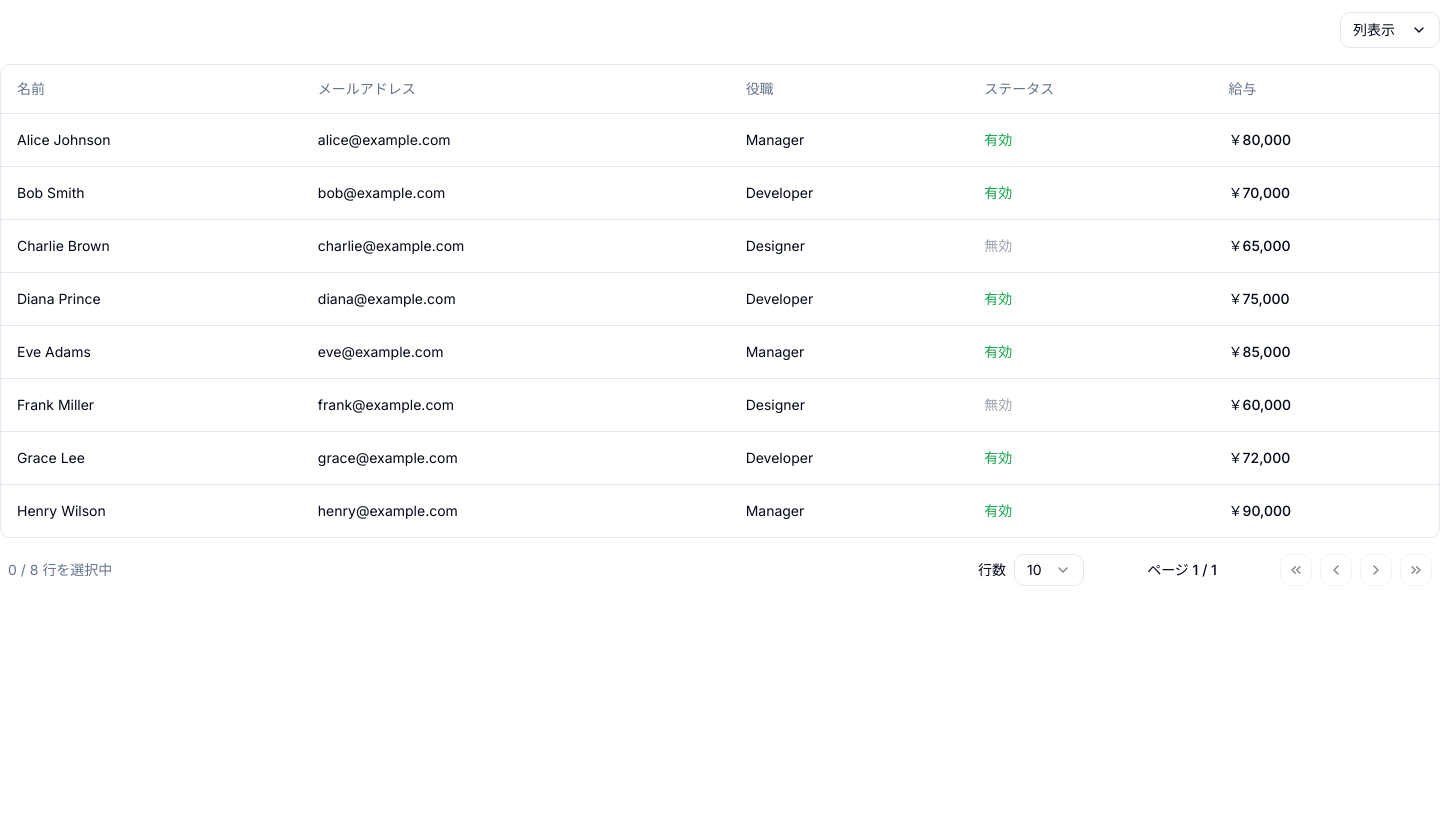
it: DataTable › Column Visibility Toggle › can toggle column visibility
The image size is (1452, 822).
Expected: the column heading "メールアドレス" is shown, [302,65,730,113]
Note: Open visibility dropdown
Click the button "列表示" at coordinates (1390, 30), box [1340,12,1440,48]
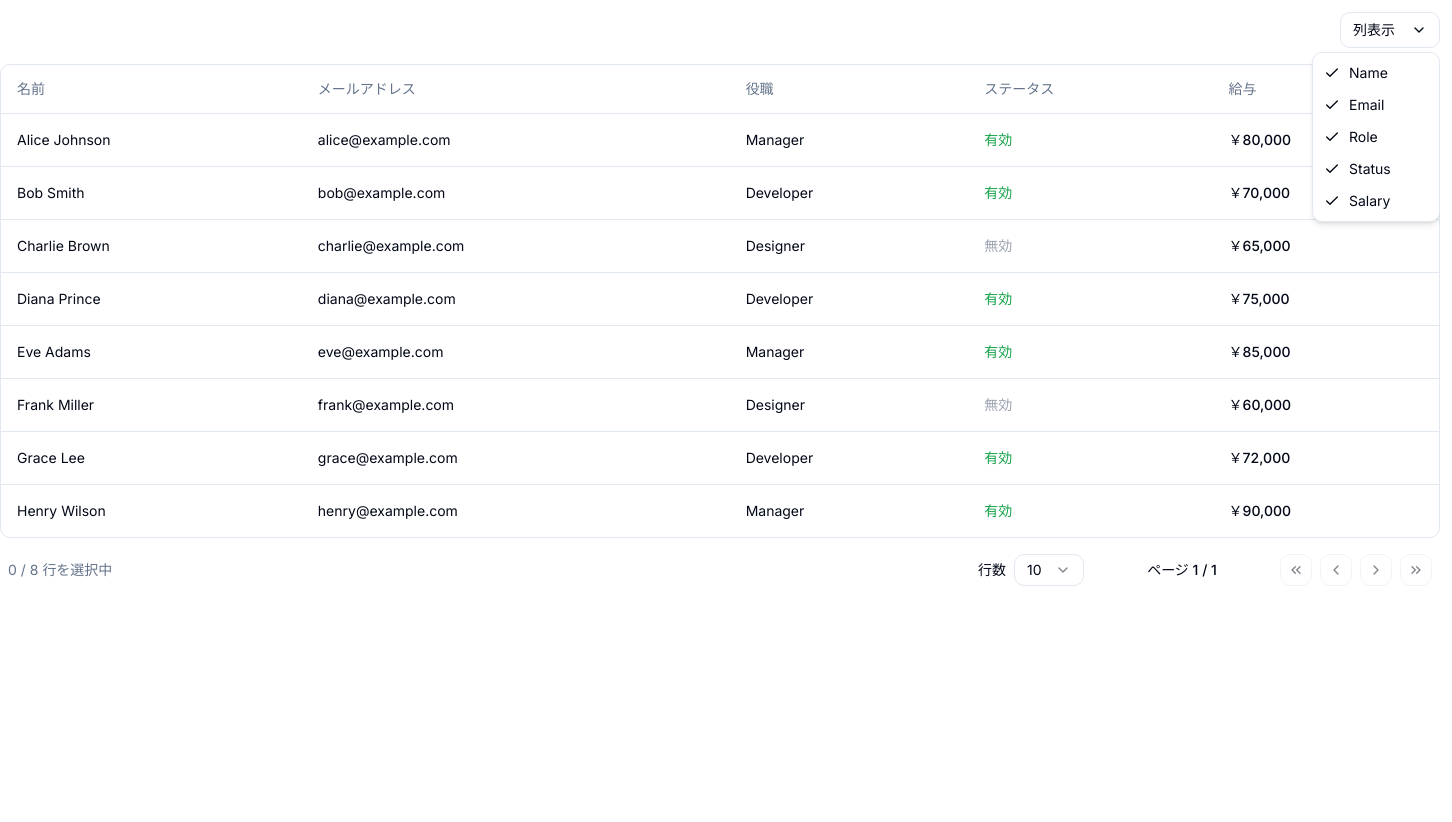
Note: Toggle email column
Click the menu item "email" at coordinates (1354, 104), box [1324,96,1384,113]
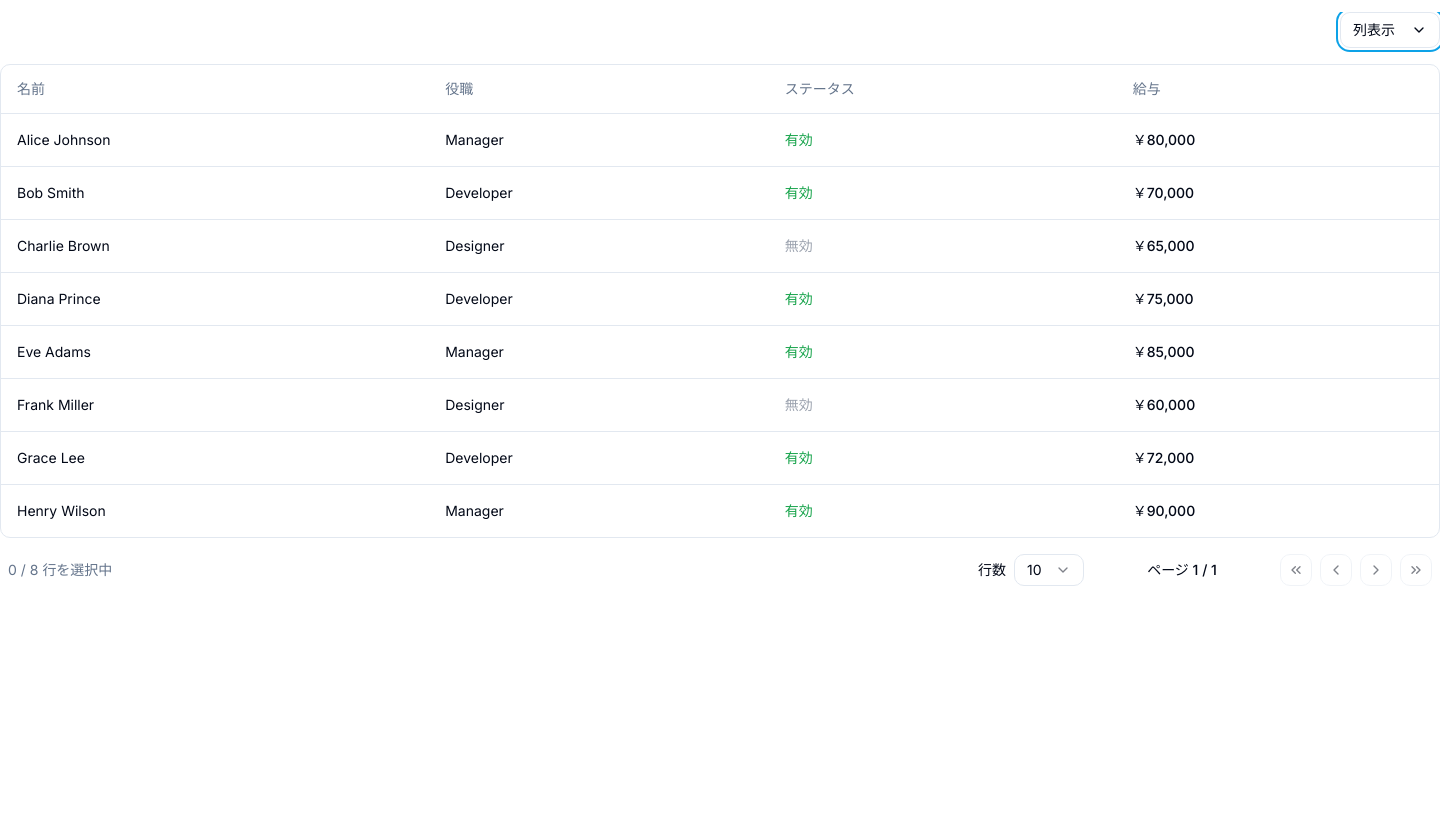
Now the column heading "メールアドレス" is gone
